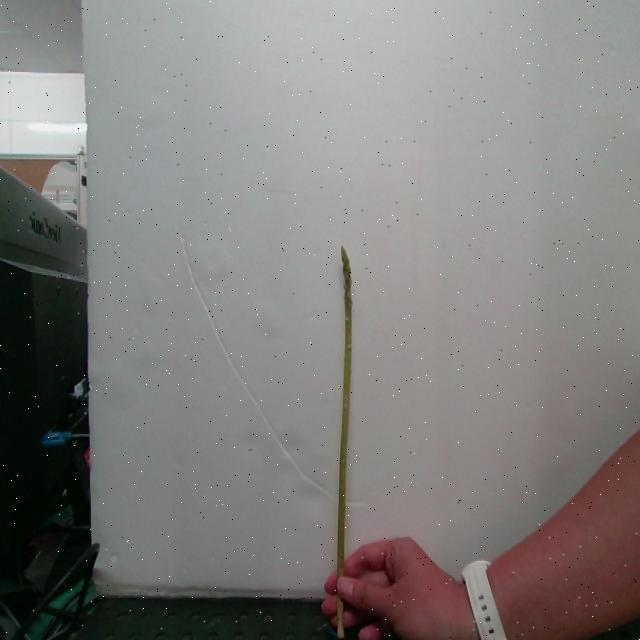aspargus: (337, 249, 355, 571)
